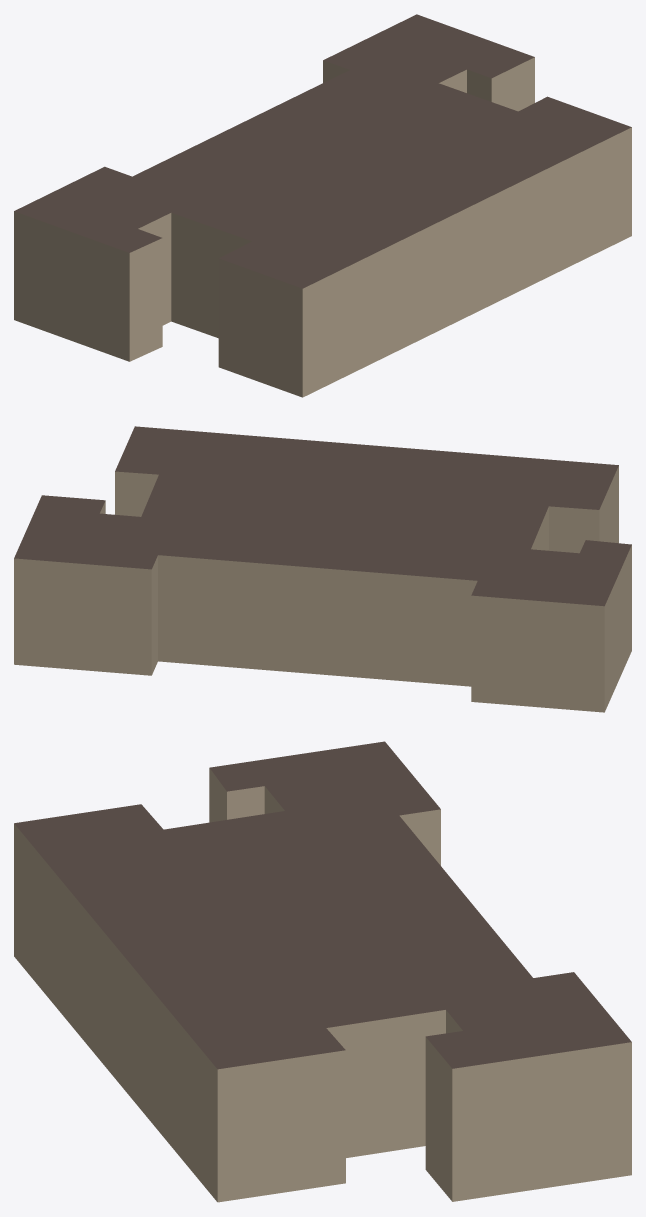
3 renders of one model, top to bottom at view 1: azimuth 30°, elevation 25°; view 2: azimuth 150°, elevation 25°; view 3: azimuth 270°, elevation 25°, orthographic. The views are drawn at different scales.
Parts seen in each view (by area): view 1: HP-w1286954634; view 2: HP-w1286954634; view 3: HP-w1286954634.
Part boxes in pixels (left/top/right/bottom): HP-w1286954634: left=14, top=14, right=631, bottom=397; HP-w1286954634: left=14, top=426, right=631, bottom=712; HP-w1286954634: left=14, top=741, right=631, bottom=1202.
Size of the model in its own units: 47.54 by 9 by 37.86.
